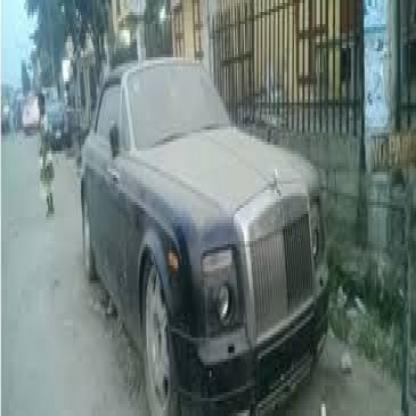car: (72, 37, 328, 416)
